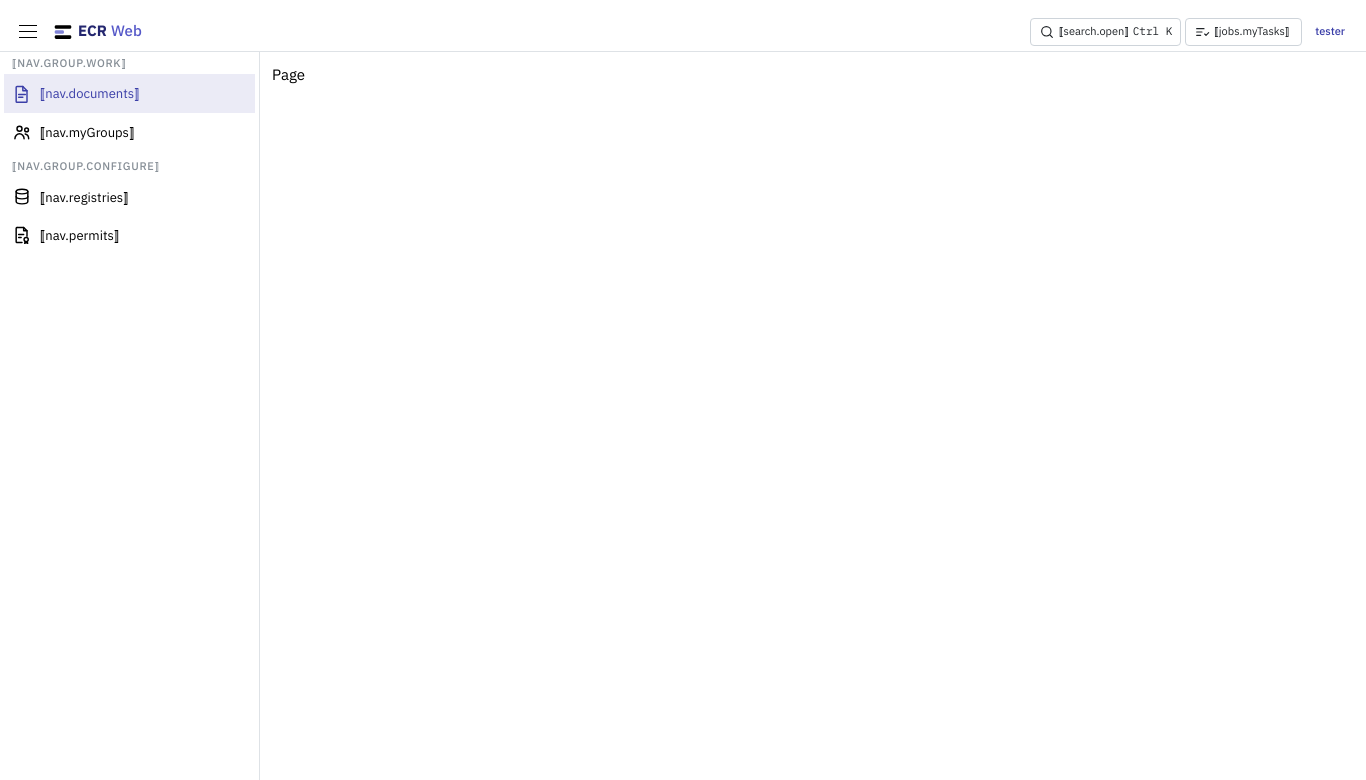
Scenario: AppLayout: мобільне меню (CL-16) › Esc закриває відкрите меню і повертає фокус на бургер
The image size is (1366, 780).
Click the button named "nav.menu". click: [28, 32]
box: [12,16,44,48]
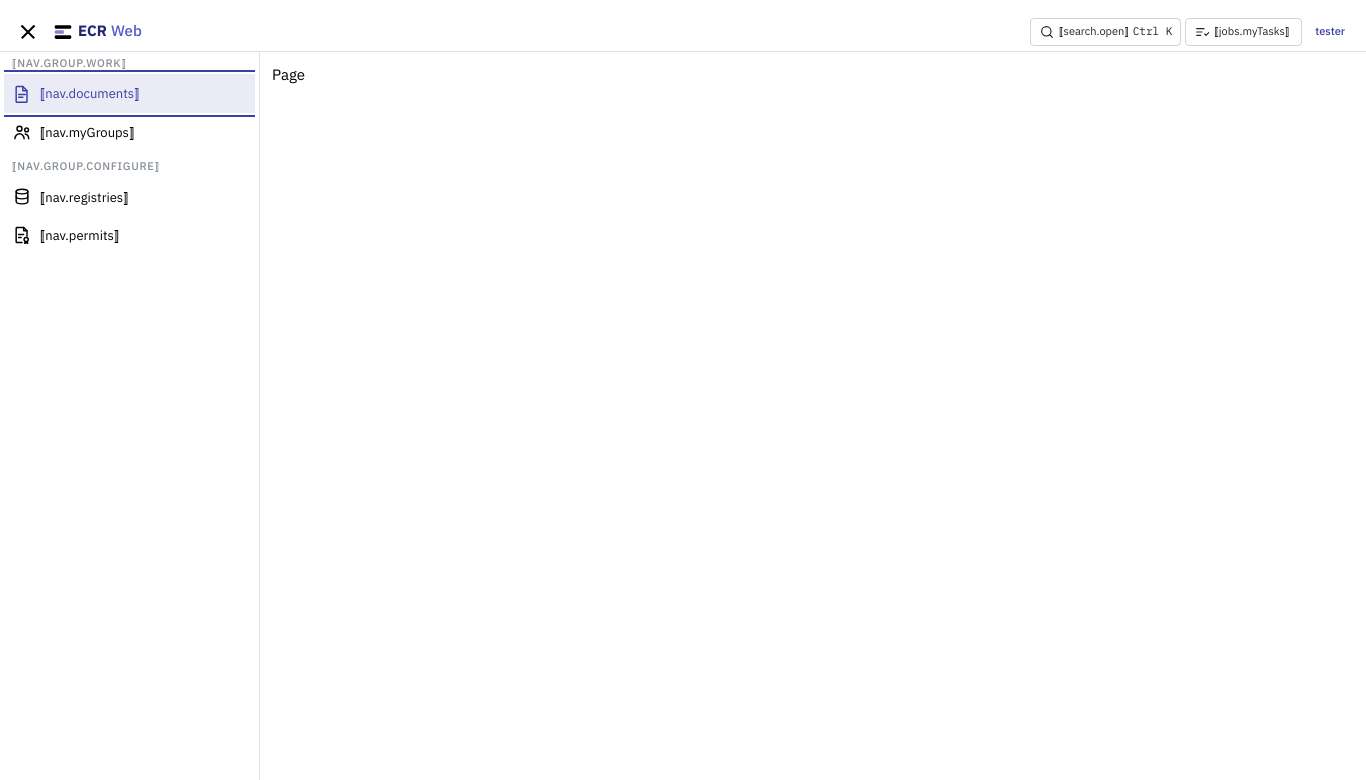
expect the button named "nav.menu" is expanded: met, box [12,16,44,48]
Press Escape in the link "⟦nav.documents⟧", box [4,74,255,113]
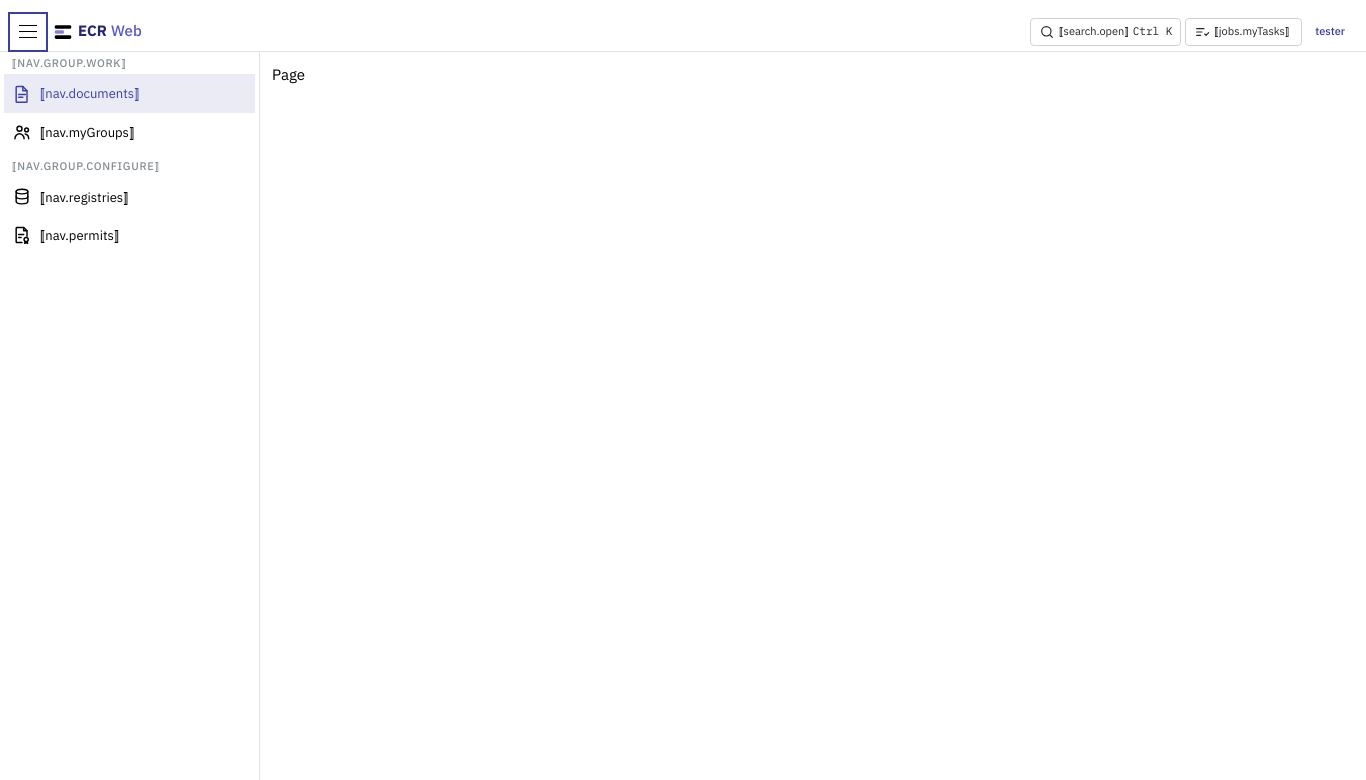
expect the button named "nav.menu" is collapsed: met, box [12,16,44,48]
